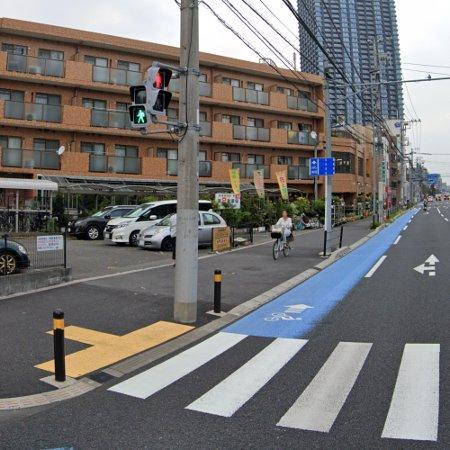crosswalks: (110, 328, 448, 438)
